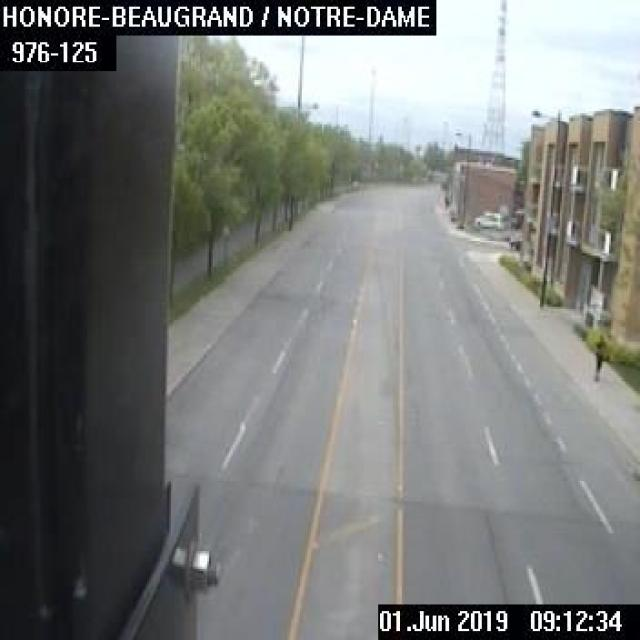pedestrian: (591, 333, 605, 380)
vehicle: (473, 210, 502, 229)
